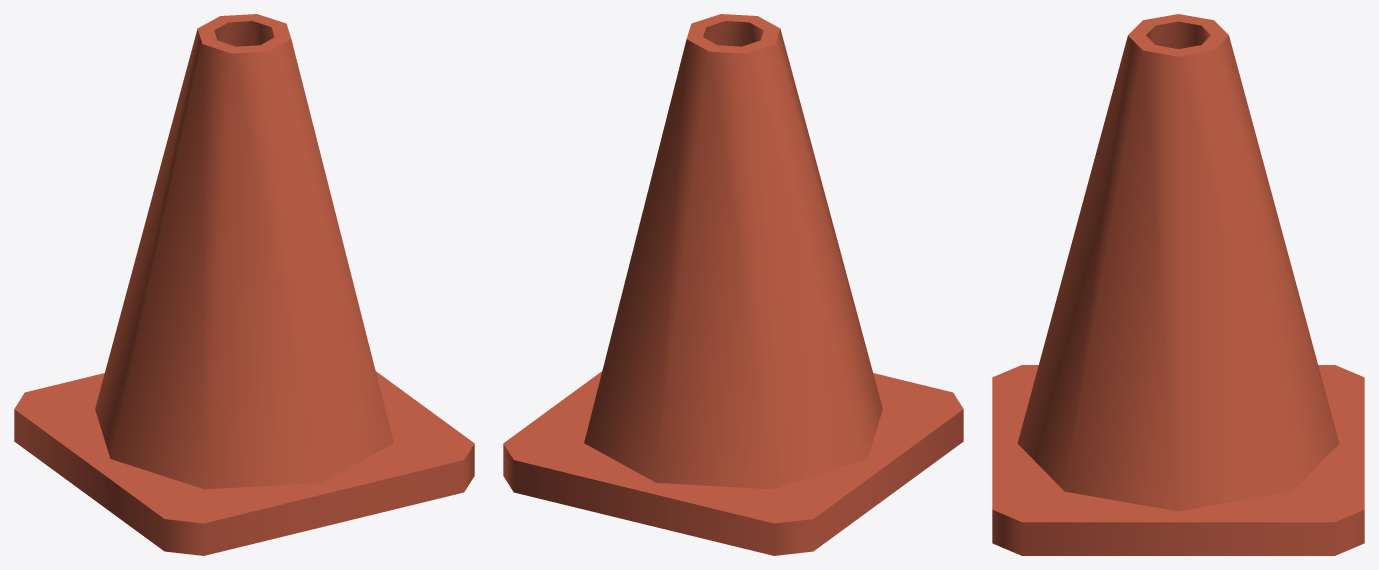
The model's file is Traffic_Cone_003.glb.
3 views of the same model, side by side, from view 1: azimuth 30°, elevation 25°; view 2: azimuth 150°, elevation 25°; view 3: azimuth 270°, elevation 25° (orthographic). The views are drawn at different scales.
Parts seen in each view (by area): view 1: Traffic Cone.003; view 2: Traffic Cone.003; view 3: Traffic Cone.003.
Part boxes in pixels (left/top/right/bottom): Traffic Cone.003: left=14, top=14, right=474, bottom=555; Traffic Cone.003: left=503, top=14, right=963, bottom=555; Traffic Cone.003: left=992, top=14, right=1364, bottom=555.
Size of the model in its own units: 2 by 2.62 by 2.
1 material, 1 textured.
